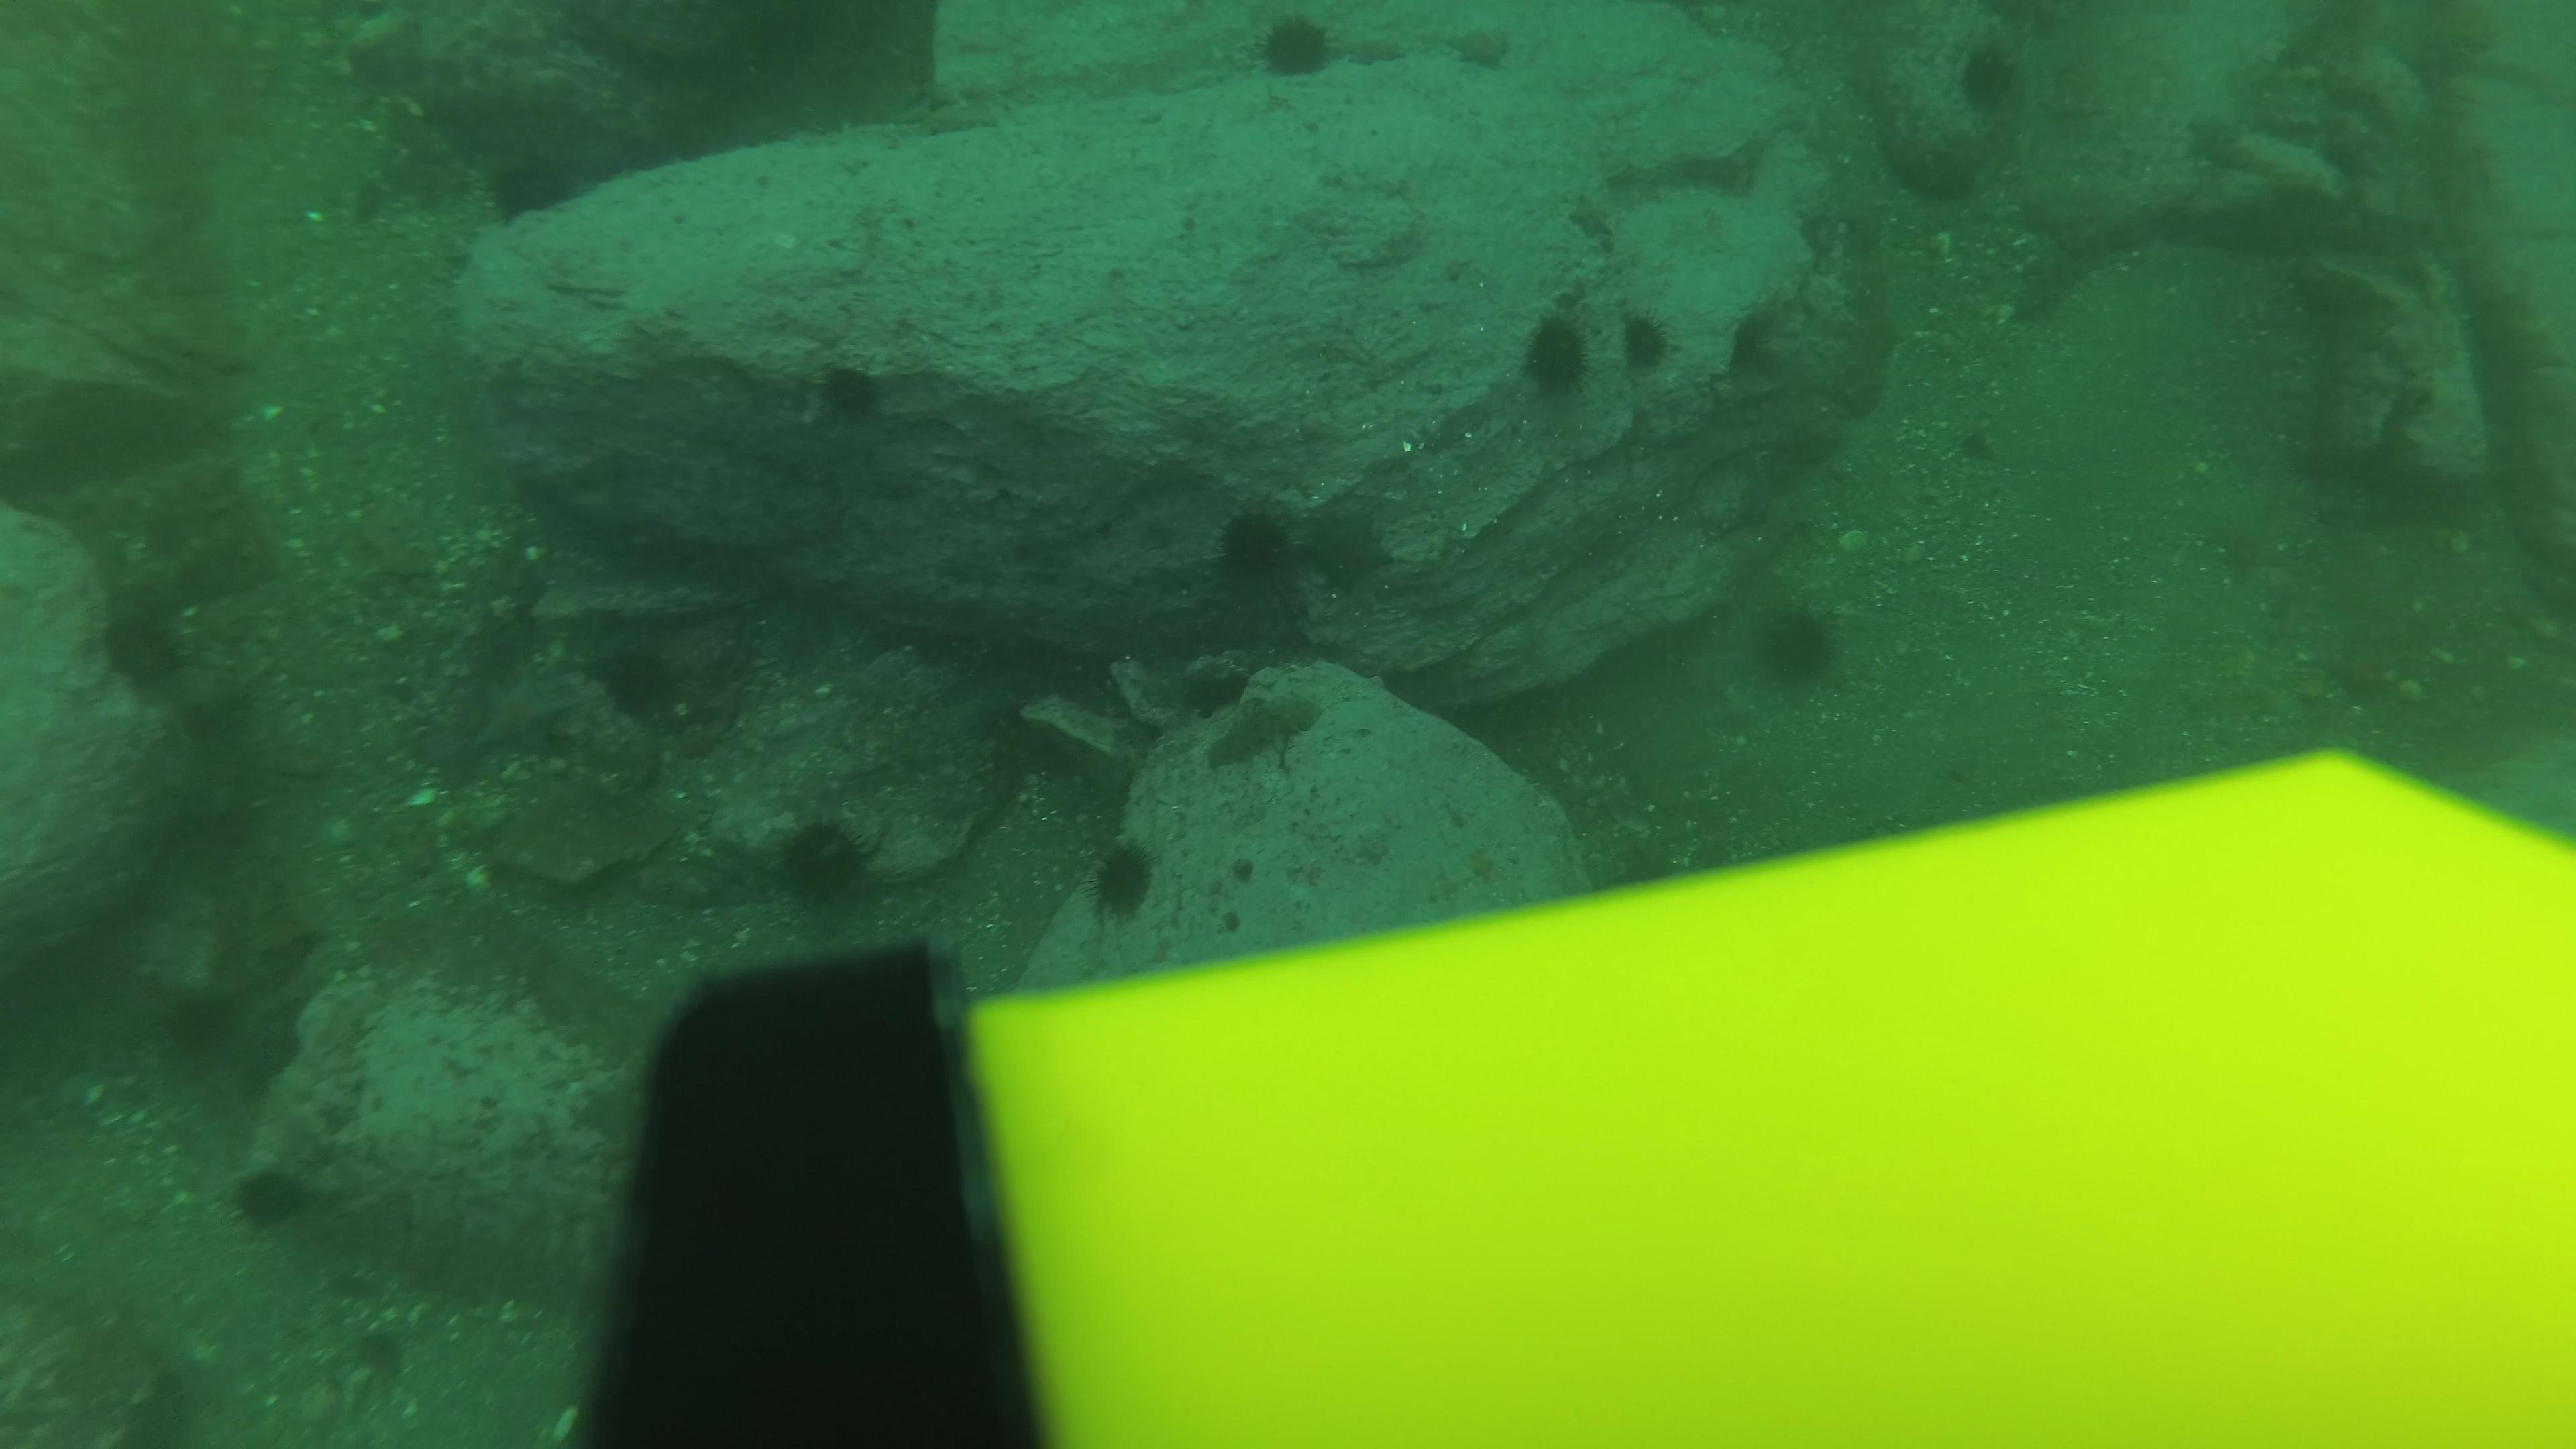echinus: (764, 810, 883, 915), (90, 593, 200, 697), (1744, 596, 1849, 694), (587, 635, 694, 727), (1205, 497, 1307, 591), (479, 145, 584, 228), (1077, 833, 1166, 924), (1513, 306, 1598, 400), (152, 982, 246, 1067), (1246, 9, 1346, 87), (223, 1159, 318, 1237), (1948, 39, 2031, 117), (803, 356, 890, 430), (1614, 304, 1677, 377)
holothurian: (1205, 683, 1332, 761)
starfish: (453, 660, 586, 768), (1562, 191, 1624, 248)
